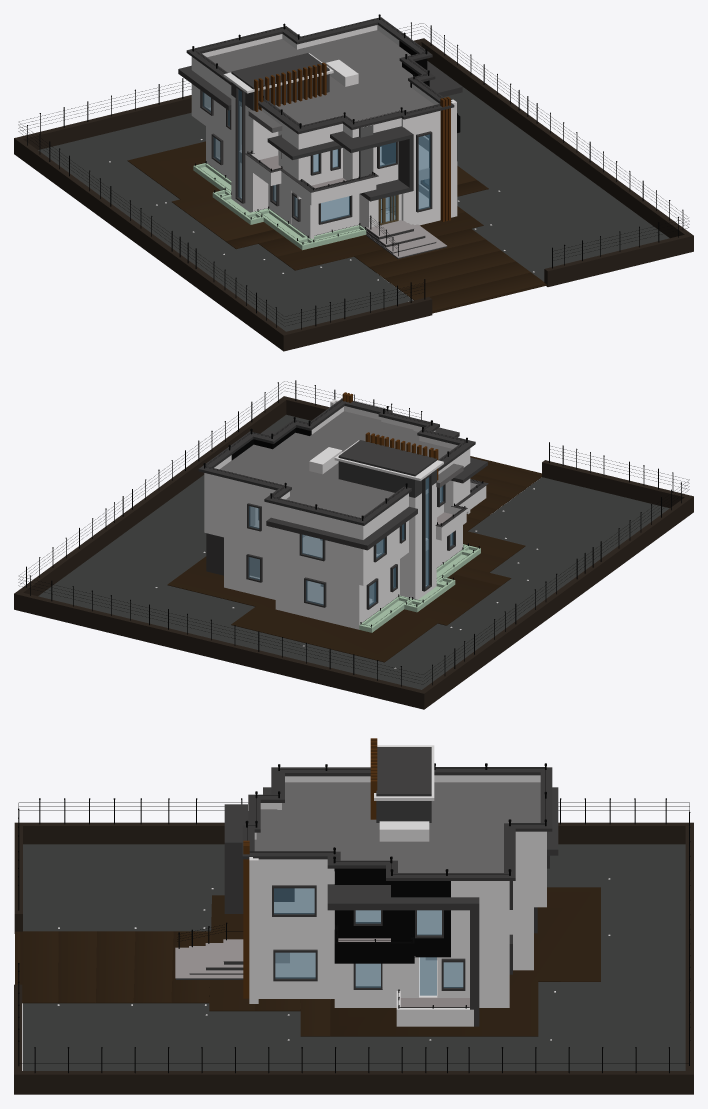
Rendered from building.glb.
3 renders of one model, top to bottom at view 1: azimuth 30°, elevation 25°; view 2: azimuth 150°, elevation 25°; view 3: azimuth 270°, elevation 25°, orthographic. The views are drawn at different scales.
Visible parts, largest first — view 1: Rectangle007, Line055, Line061, Line015, Line009, Line025, Line017, Box023, Box007, Line012, Line013, Line003 (+22 smaller); view 2: Rectangle007, Line055, Line061, Line015, Line012, Line025, Line001, Line011, Box007, Line002, Box023, Line013 (+12 smaller); view 3: Rectangle007, Line061, Line055, Line015, Line003, Line025, Line011, Line009, Line010, Line023, Box007, Line018 (+23 smaller).
Boxes of the visible parts, box(x1,y1,x2,y2) form: Rectangle007: box(38, 61, 669, 331); Line055: box(14, 38, 693, 351); Line061: box(127, 141, 547, 313); Line015: box(207, 30, 434, 132); Line009: box(261, 84, 456, 199); Line025: box(186, 17, 454, 134); Line017: box(330, 126, 413, 201); Box023: box(193, 163, 366, 250); Box007: box(231, 53, 329, 110); Line012: box(191, 34, 282, 144); Line013: box(231, 95, 297, 178); Line003: box(398, 161, 457, 225); Rectangle007: box(38, 414, 669, 689); Line055: box(14, 396, 693, 709); Line061: box(167, 456, 541, 662); Line015: box(219, 411, 463, 517); Line012: box(274, 493, 408, 585); Line025: box(198, 398, 475, 525); Line001: box(275, 559, 399, 629); Line011: box(204, 455, 305, 563); Box007: box(338, 440, 436, 497); Line002: box(224, 537, 275, 599); Box023: box(359, 544, 480, 632); Line013: box(409, 453, 468, 553); Rectangle007: box(23, 844, 685, 1070); Line061: box(15, 887, 600, 1036); Line055: box(14, 822, 693, 1094); Line015: box(254, 782, 540, 872); Line003: box(249, 929, 416, 1007); Line025: box(242, 767, 552, 880); Line011: box(451, 831, 546, 957); Line009: box(249, 776, 370, 934); Line010: box(334, 868, 450, 957); Line023: box(327, 884, 479, 1026); Box007: box(376, 747, 431, 822); Line018: box(275, 953, 462, 995).
Size of the model in its own units: 26.92 by 8.7 by 30.69.
